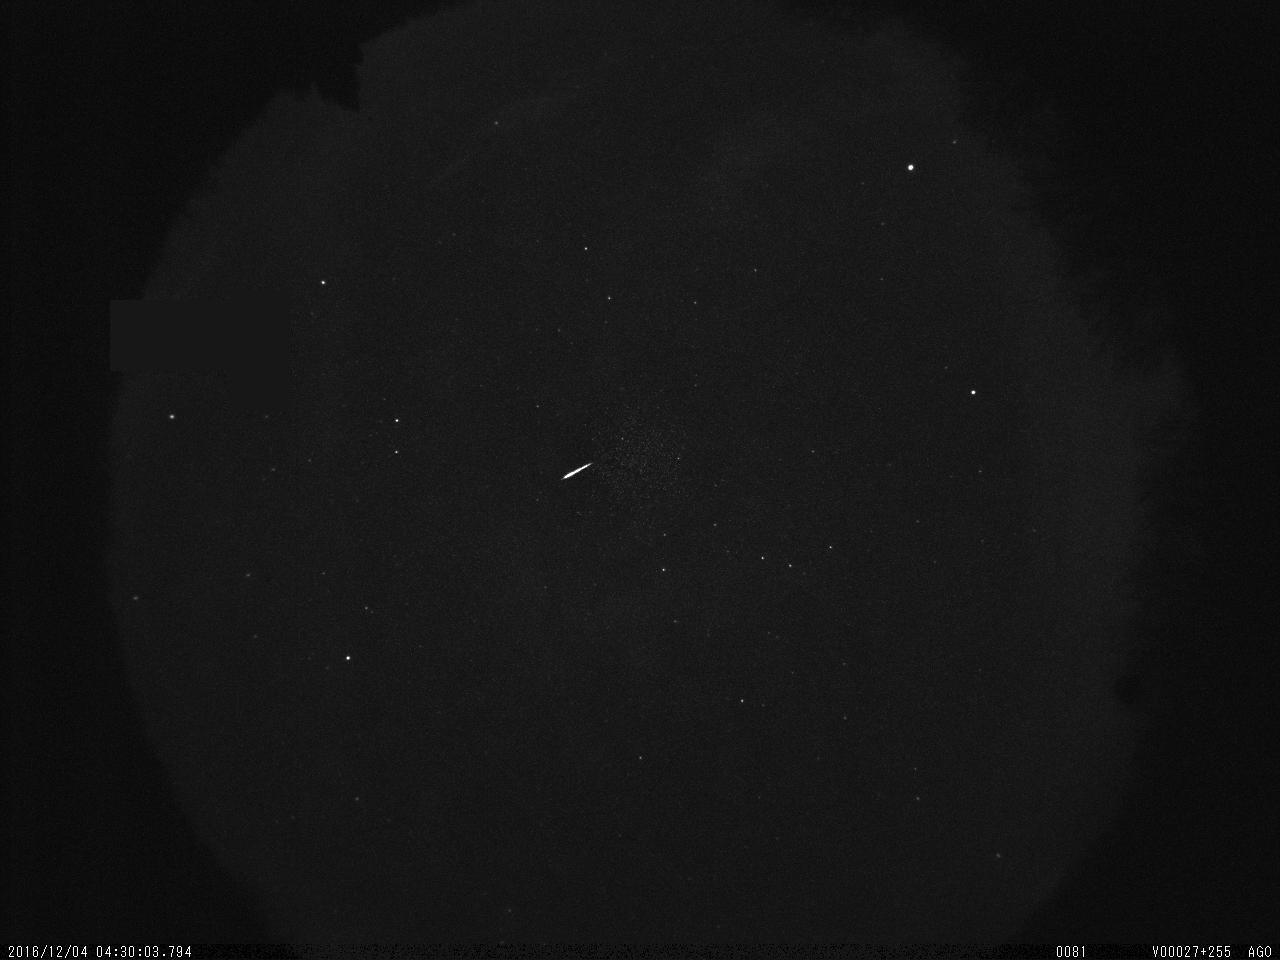meteor: (544, 454, 603, 493)
